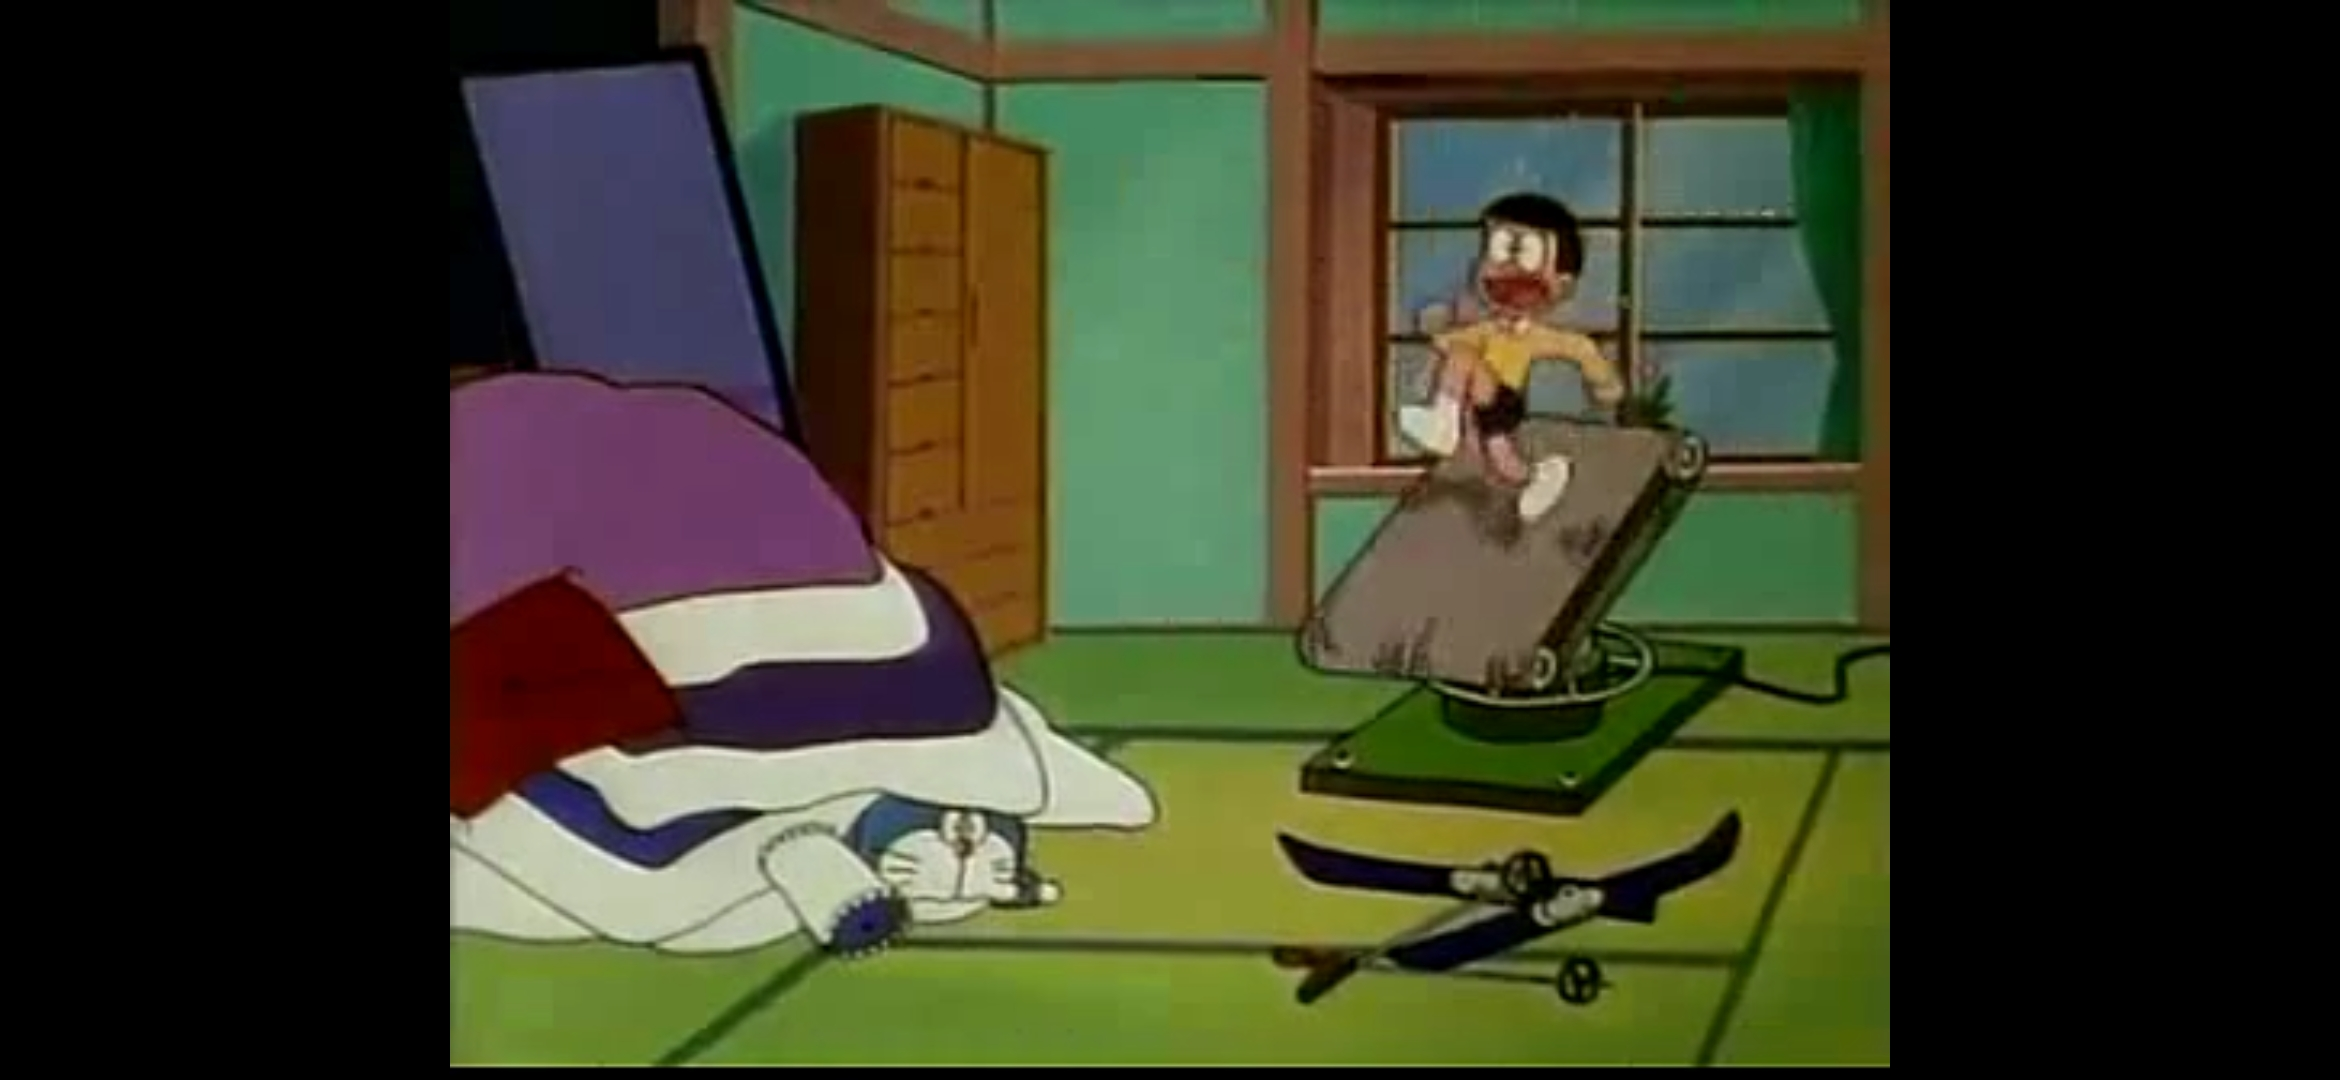Doraemon: (851, 782, 1025, 923)
Nobi: (1468, 191, 1580, 322)
